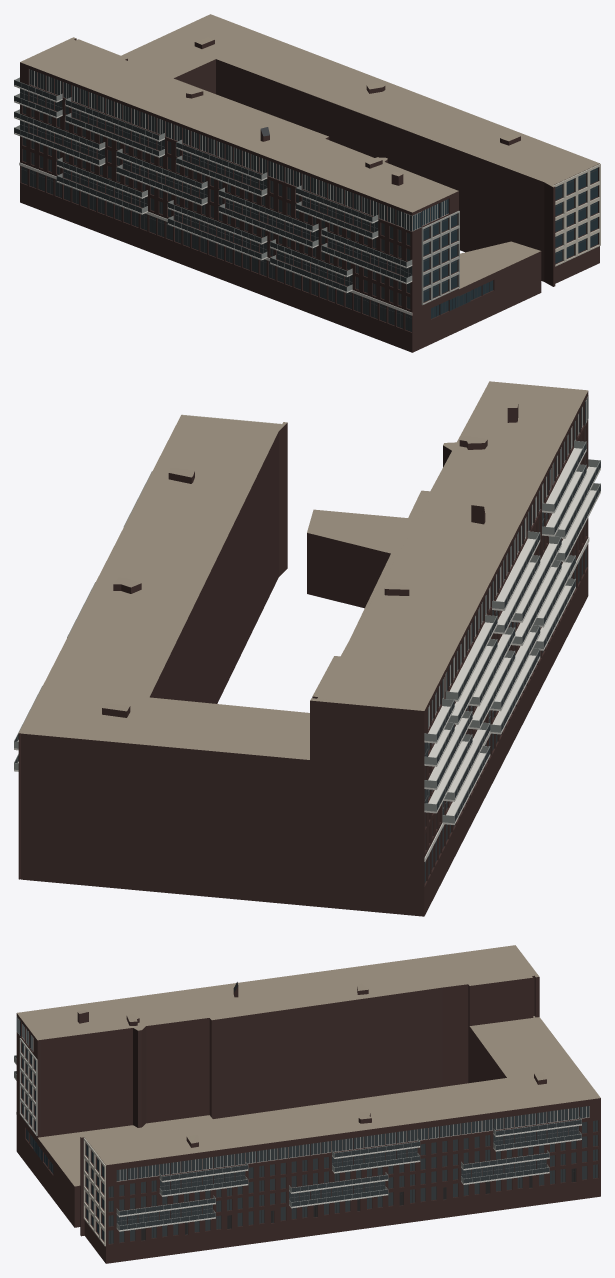
The model's file is recipe-large-hoofdweg-458-576-105724.glb.
3 views of the same model, one above another, from view 1: azimuth 30°, elevation 25°; view 2: azimuth 150°, elevation 25°; view 3: azimuth 270°, elevation 25° (orthographic). The views are drawn at different scales.
Visible parts, largest first — view 1: hoofdweg-458-576-105724; view 2: hoofdweg-458-576-105724; view 3: hoofdweg-458-576-105724.
Boxes of the visible parts, x1,y1,x2,y2 form: hoofdweg-458-576-105724: (14,14,600,352); hoofdweg-458-576-105724: (14,381,600,916); hoofdweg-458-576-105724: (14,945,600,1263).
Bounding box in the file's own units: 73.49 × 27.87 × 98.39.
